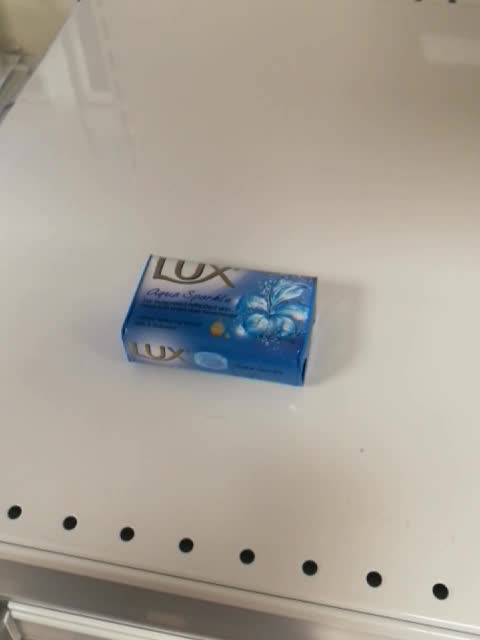soap: (120, 253, 319, 388)
